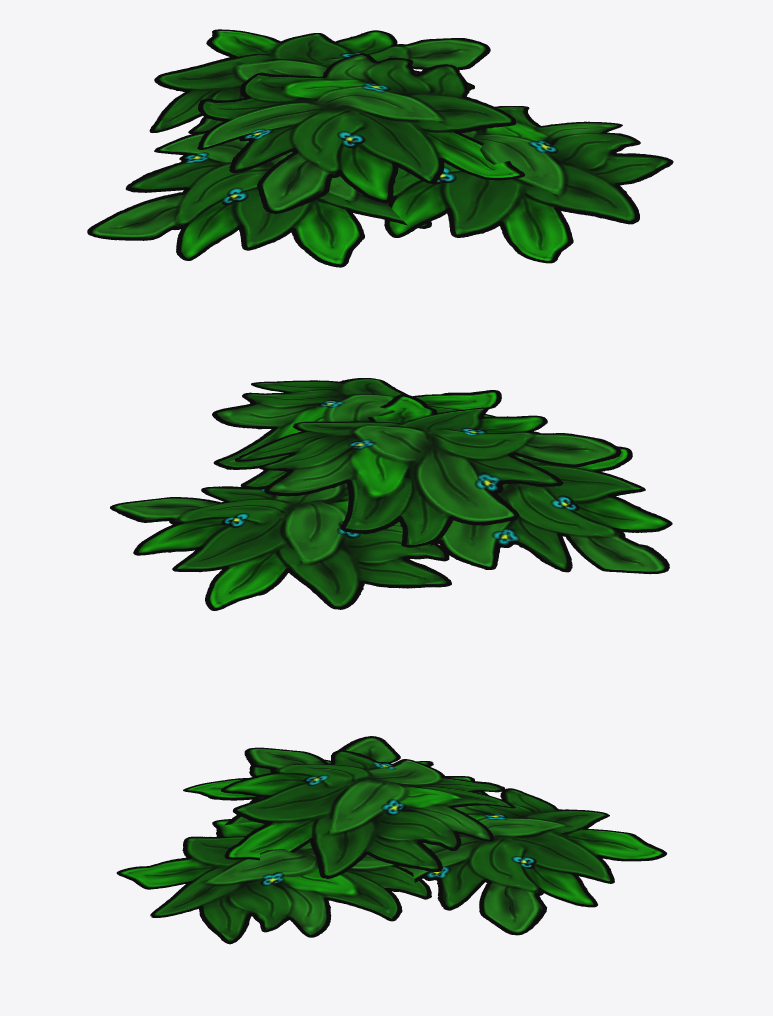
The model's file is TopDownGrassBlueFlowers.fbx.
3 renders of one model, top to bottom at view 1: azimuth 30°, elevation 25°; view 2: azimuth 150°, elevation 25°; view 3: azimuth 270°, elevation 25°, orthographic. The views are drawn at different scales.
Parts seen in each view (by area): view 1: polySurface1; view 2: polySurface1; view 3: polySurface1.
Part boxes in pixels (x1=…): polySurface1: x1=87, y1=29, x2=673, y2=267; polySurface1: x1=110, y1=378, x2=672, y2=610; polySurface1: x1=116, y1=736, x2=666, y2=944.
Bounding box in the file's own units: 1865 × 186 × 1946.
